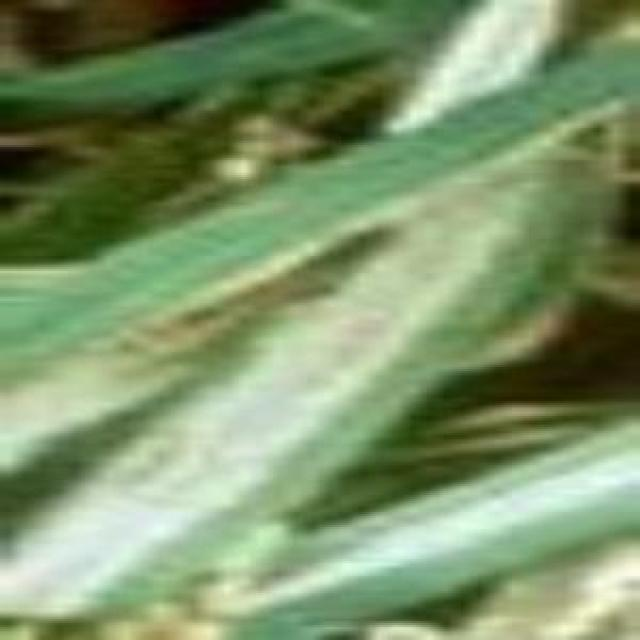Bacterial_Blight: (0, 176, 529, 614)
